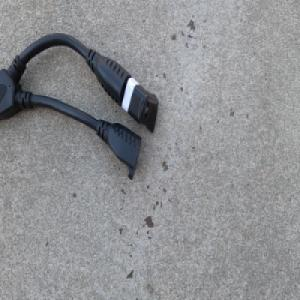Wire: (0, 32, 159, 180)
